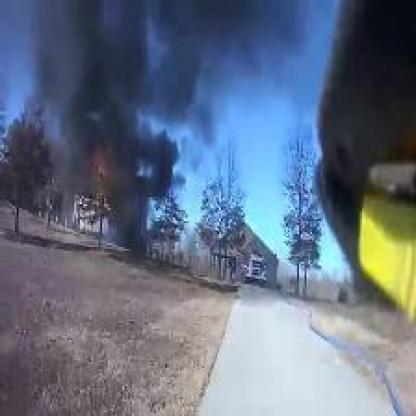other: (345, 190, 412, 314)
smoke: (33, 0, 205, 245)
